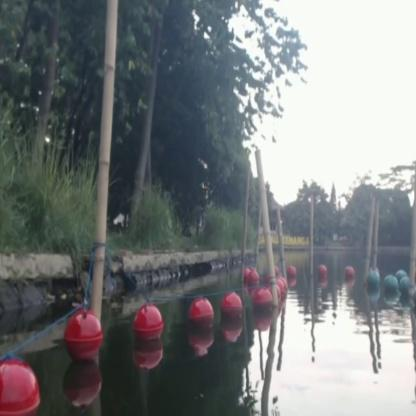green_buoy: (384, 274, 396, 298), (368, 270, 378, 297), (400, 278, 410, 298)
red_buoy: (0, 358, 36, 415), (66, 311, 103, 360), (134, 308, 162, 347), (190, 298, 214, 336), (223, 290, 241, 324), (255, 290, 272, 320), (274, 276, 286, 301), (246, 270, 256, 288), (320, 262, 327, 280), (344, 267, 353, 280), (289, 264, 296, 280)
